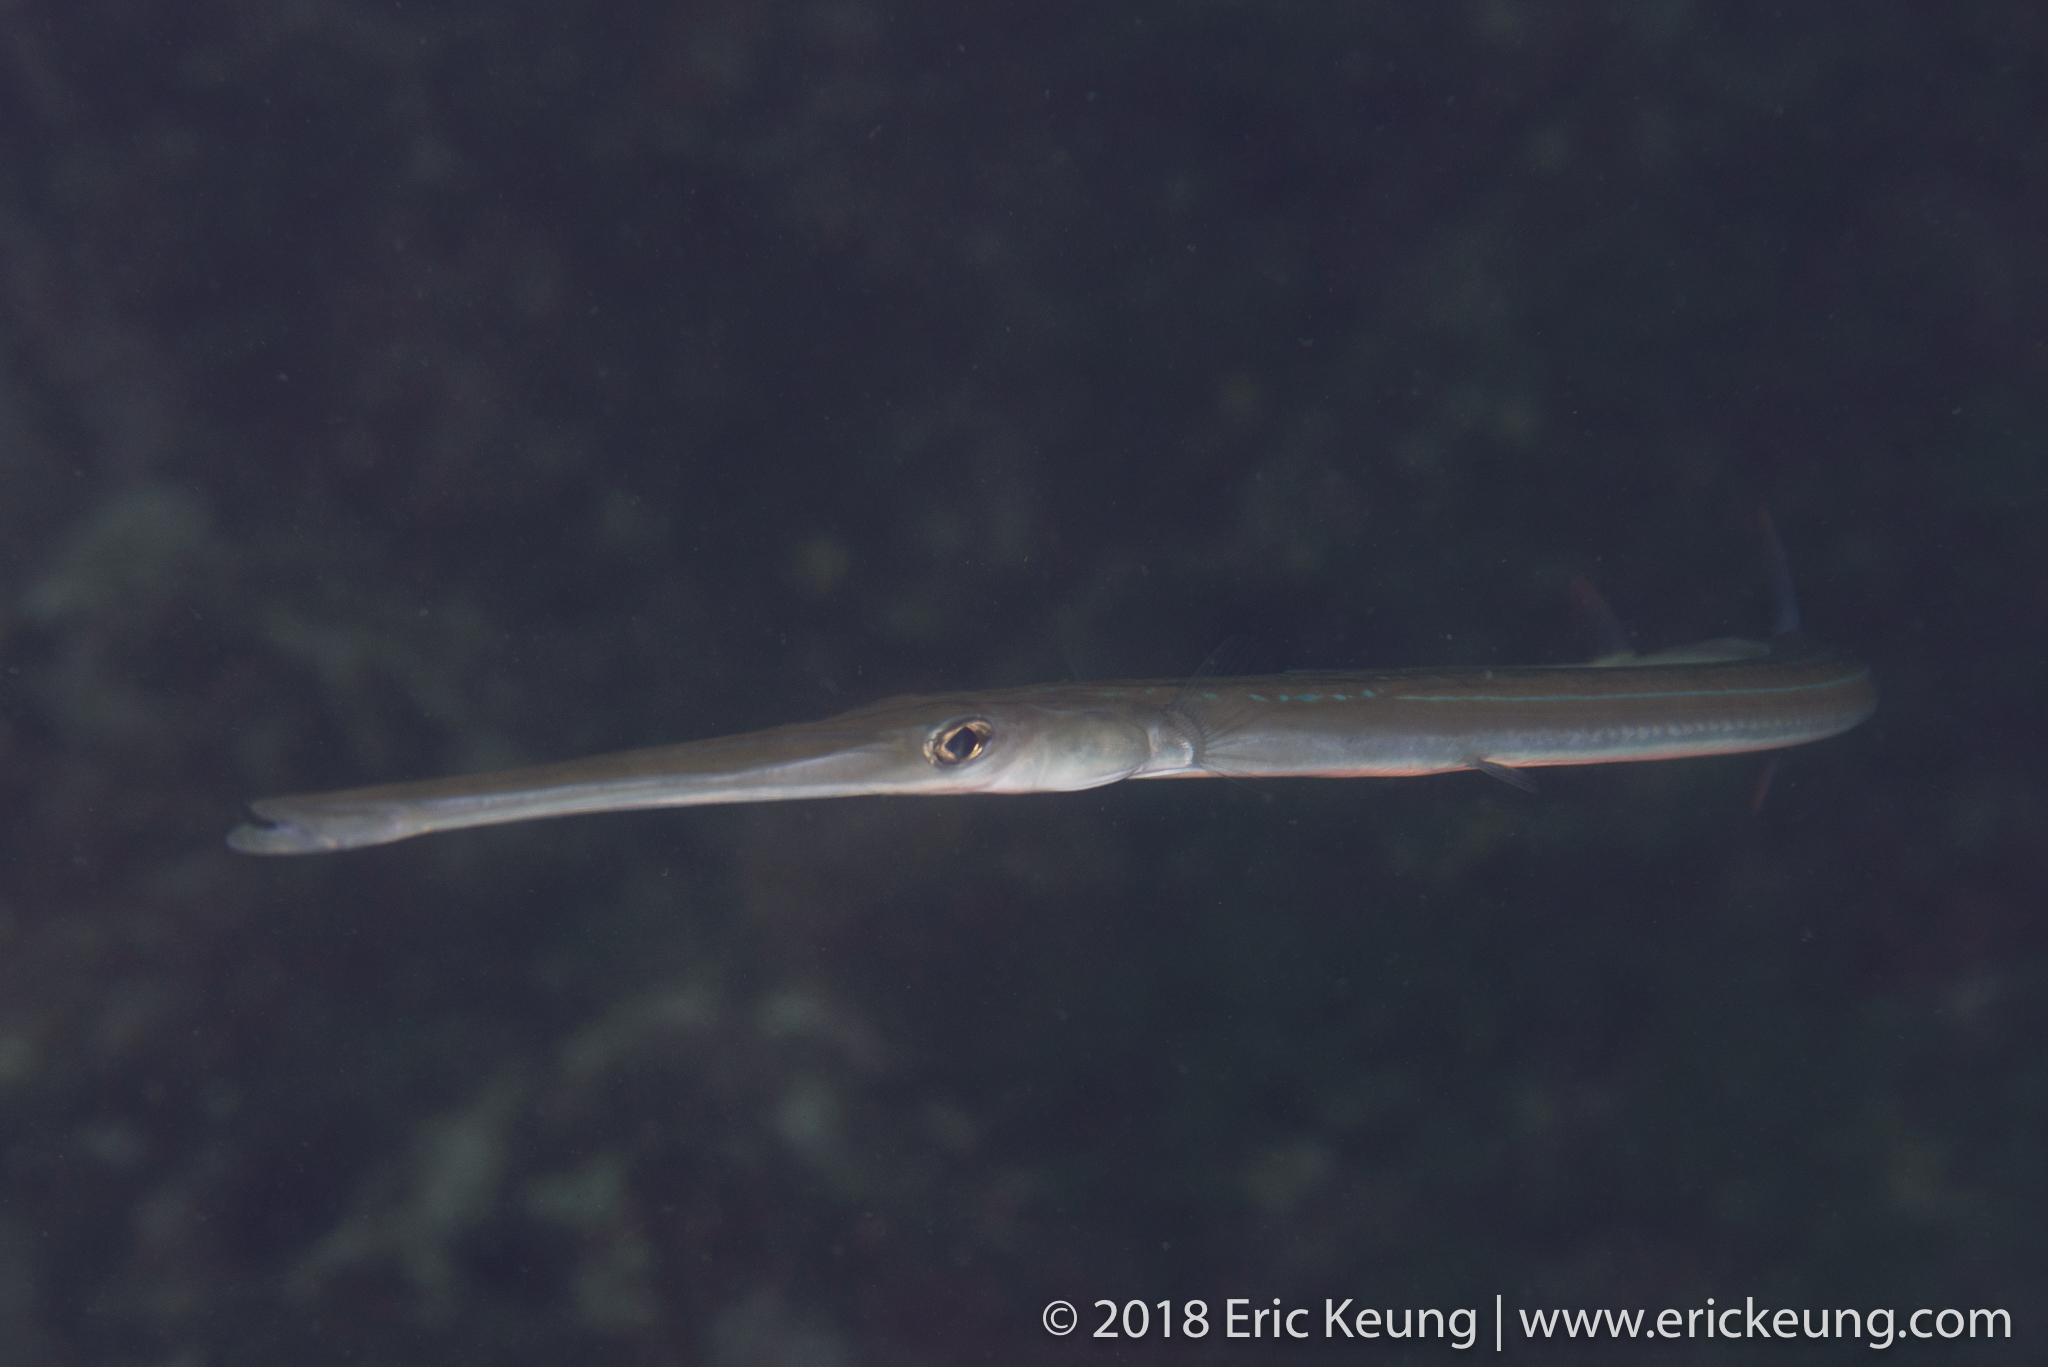Fistularia commersonii: (221, 622, 1883, 860)
